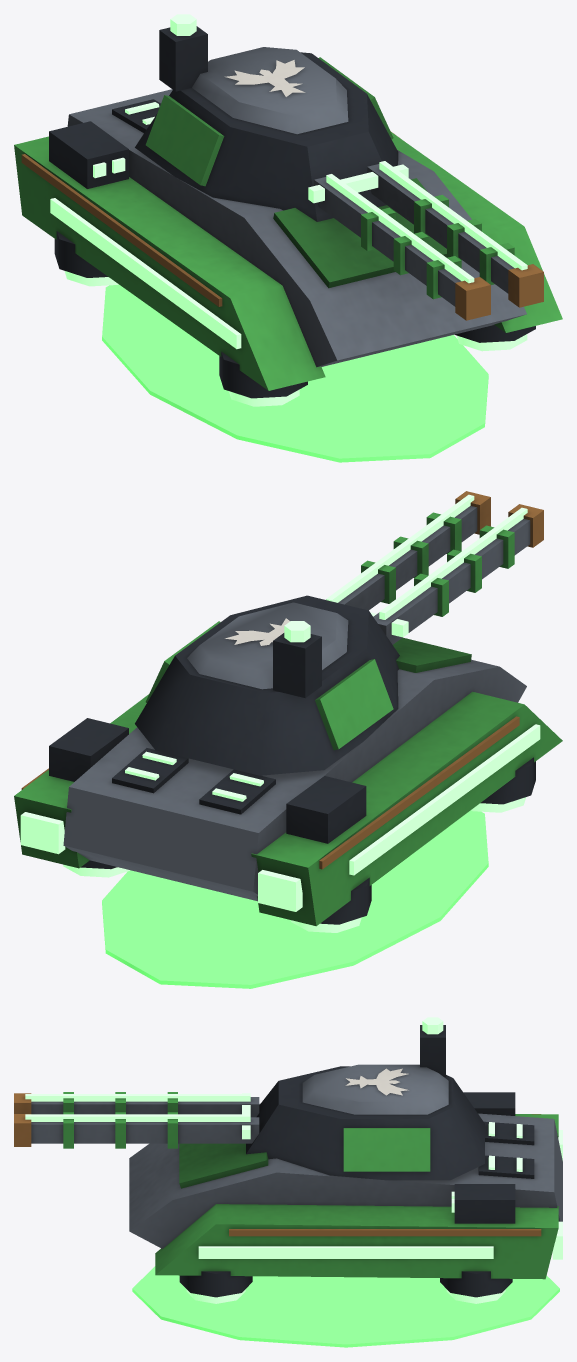
The model's file is assault_dl8_green.glb.
3 views of the same model, one above another, from view 1: azimuth 30°, elevation 25°; view 2: azimuth 150°, elevation 25°; view 3: azimuth 270°, elevation 25° (orthographic). The views are drawn at different scales.
Visible parts, largest first — view 1: assault_dl8_green; view 2: assault_dl8_green; view 3: assault_dl8_green.
Boxes of the visible parts, bbox=[...] form: assault_dl8_green: bbox=[14, 14, 562, 462]; assault_dl8_green: bbox=[14, 491, 562, 988]; assault_dl8_green: bbox=[14, 1017, 562, 1347].
Size of the model in its own units: 0.324 by 0.316 by 0.633.
Materials: 3 (1 with a texture image).
